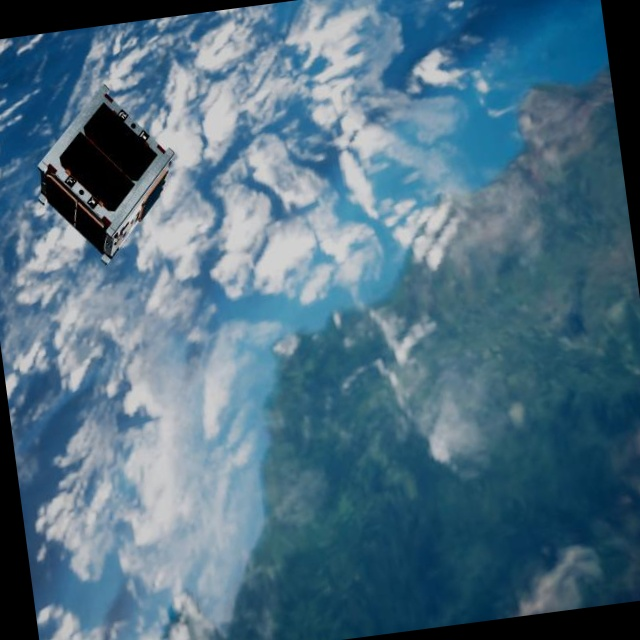medium_debris: (23, 73, 197, 274)
